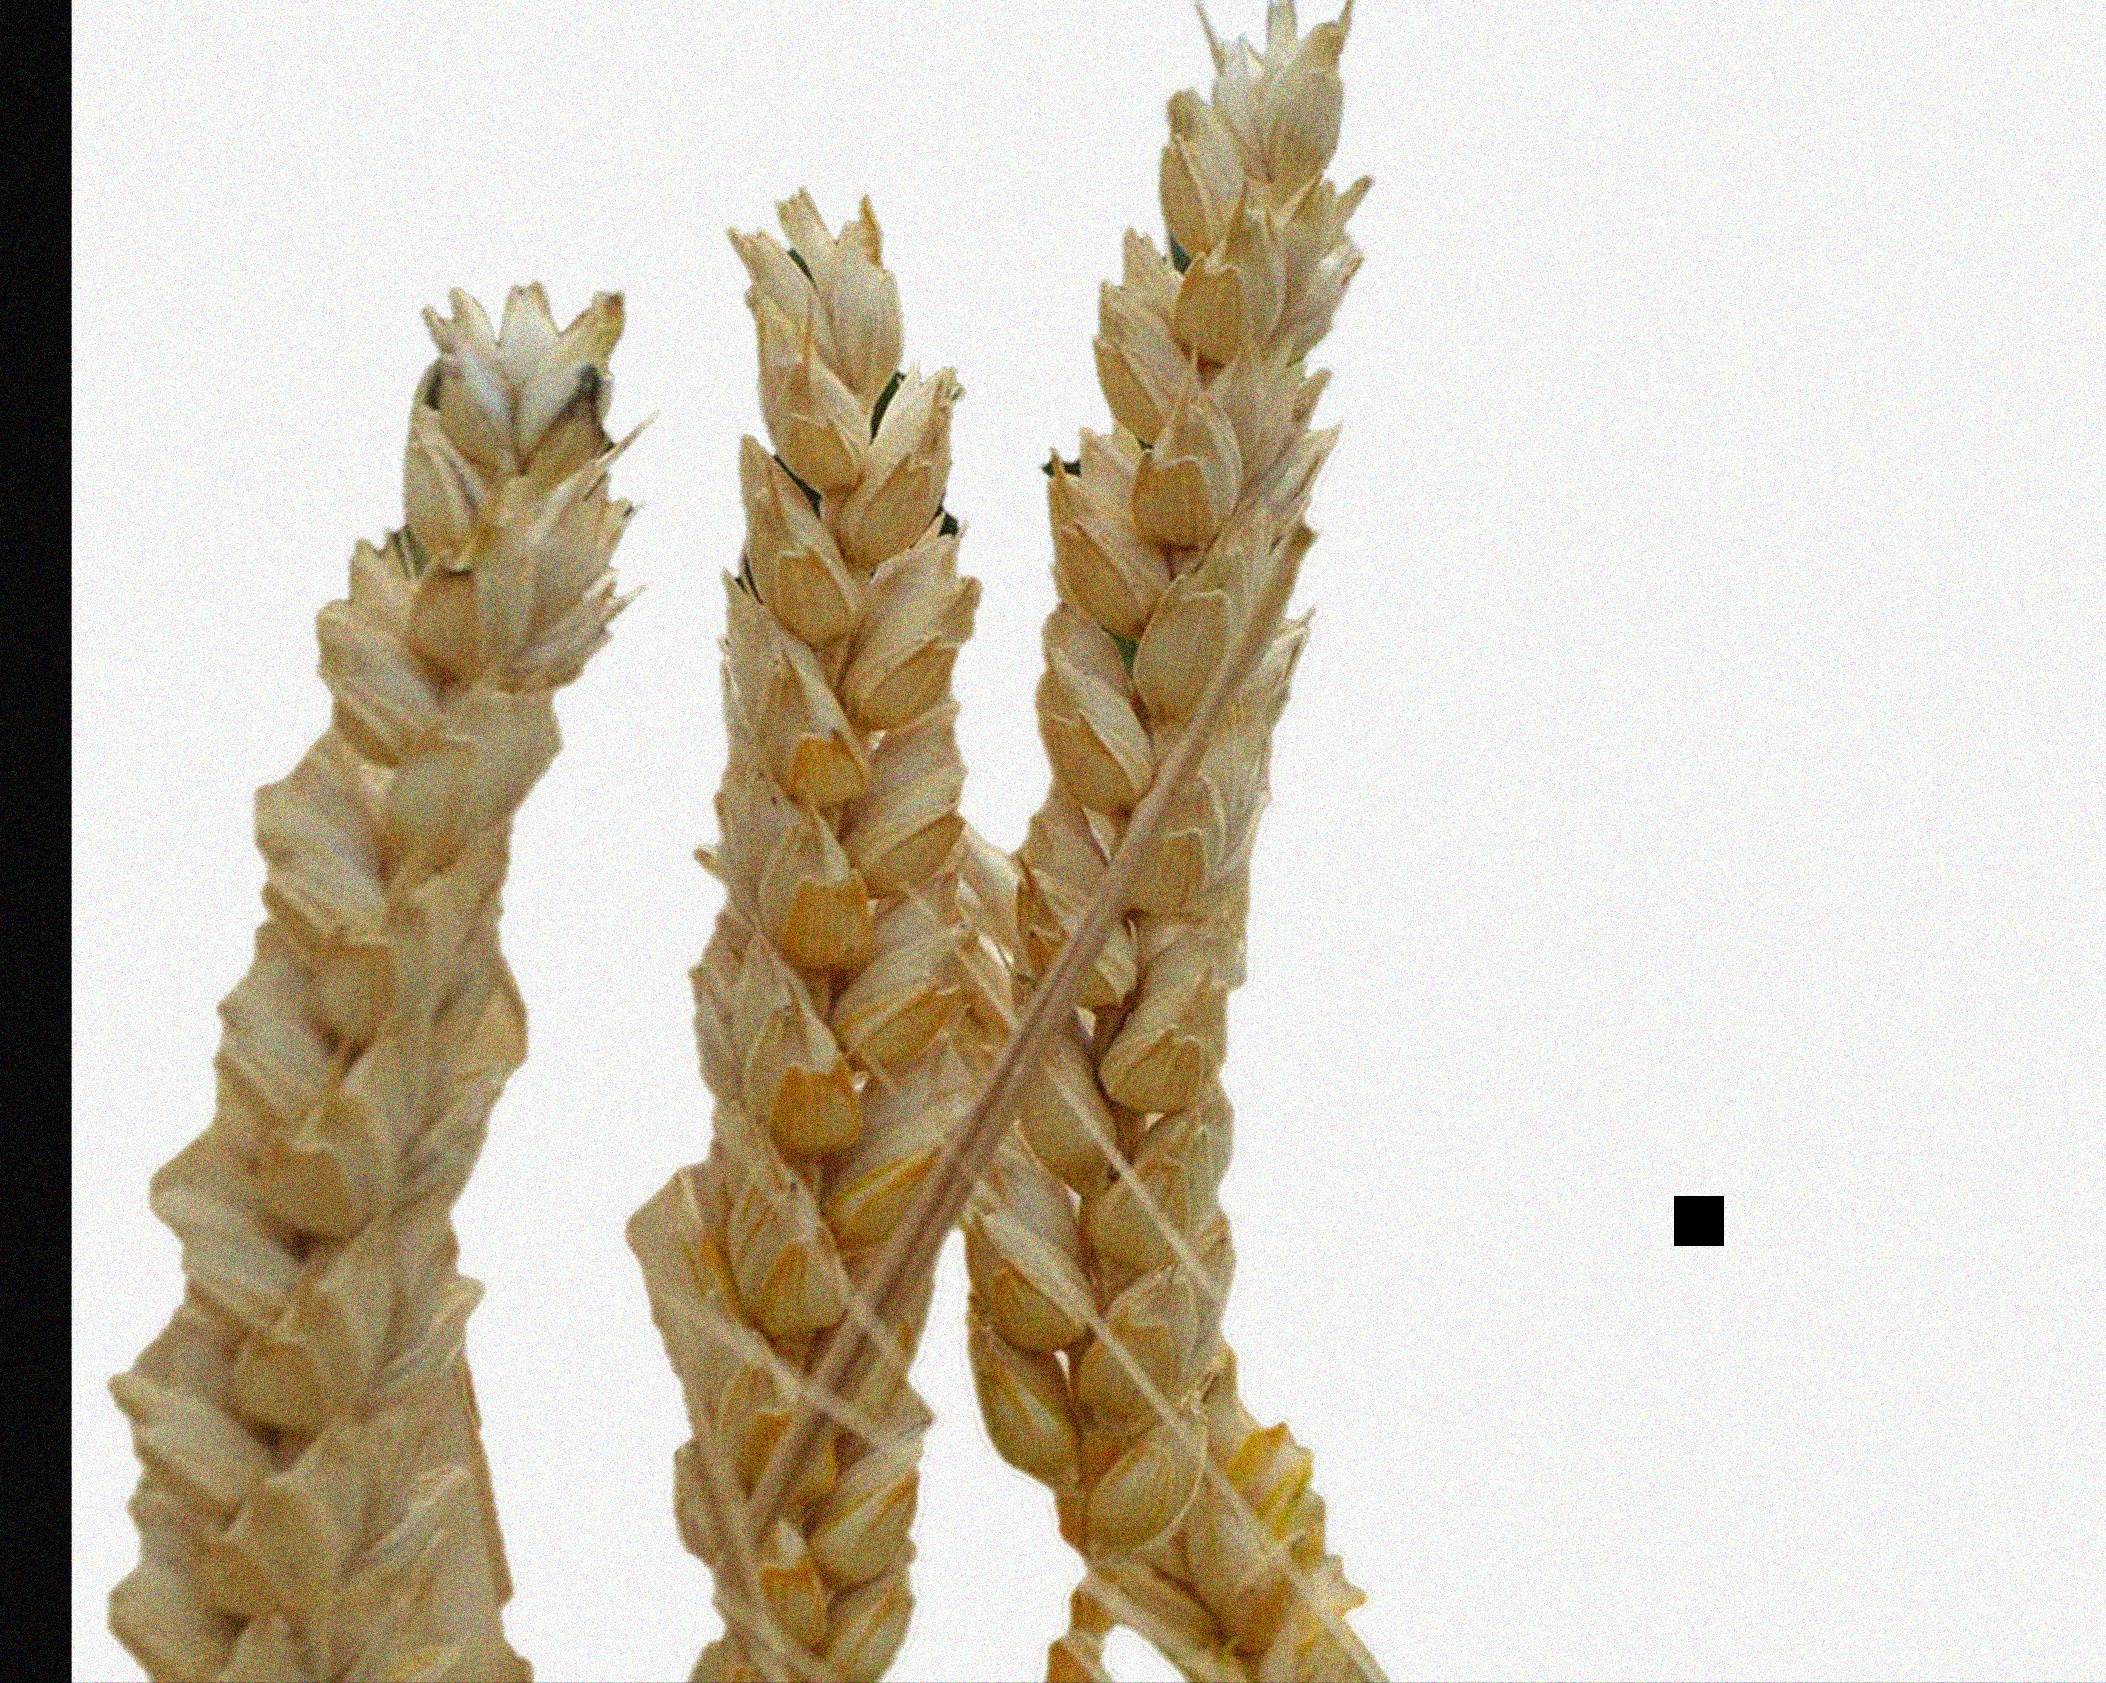wheat: (84, 271, 622, 1680), (998, 2, 1398, 1662), (648, 131, 995, 1674)
